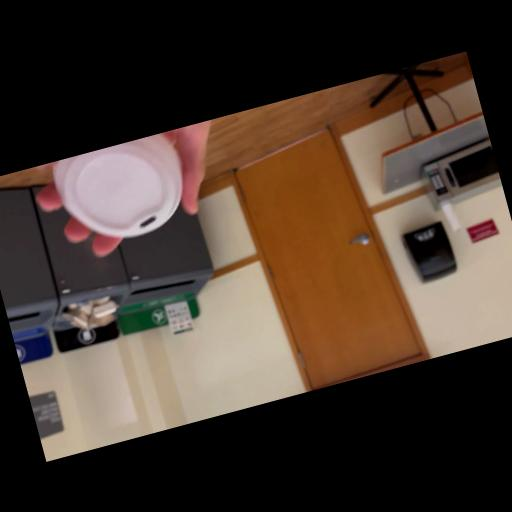lp_cup_lids: (49, 129, 196, 254)
